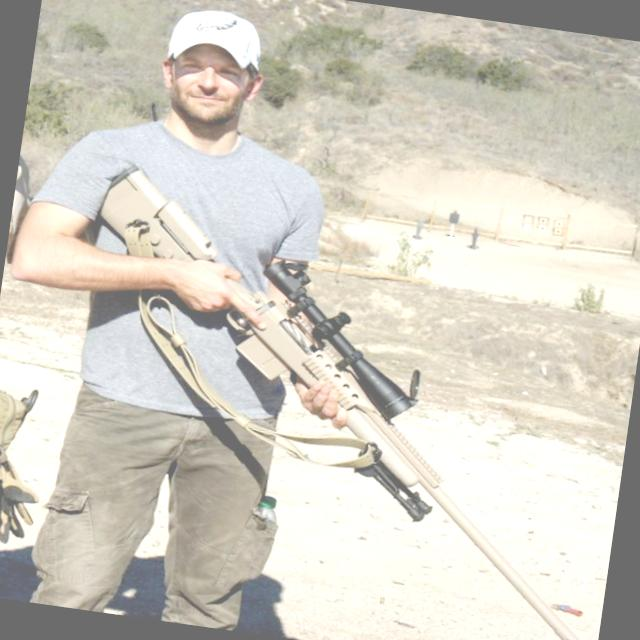rifle: (24, 157, 640, 640)
